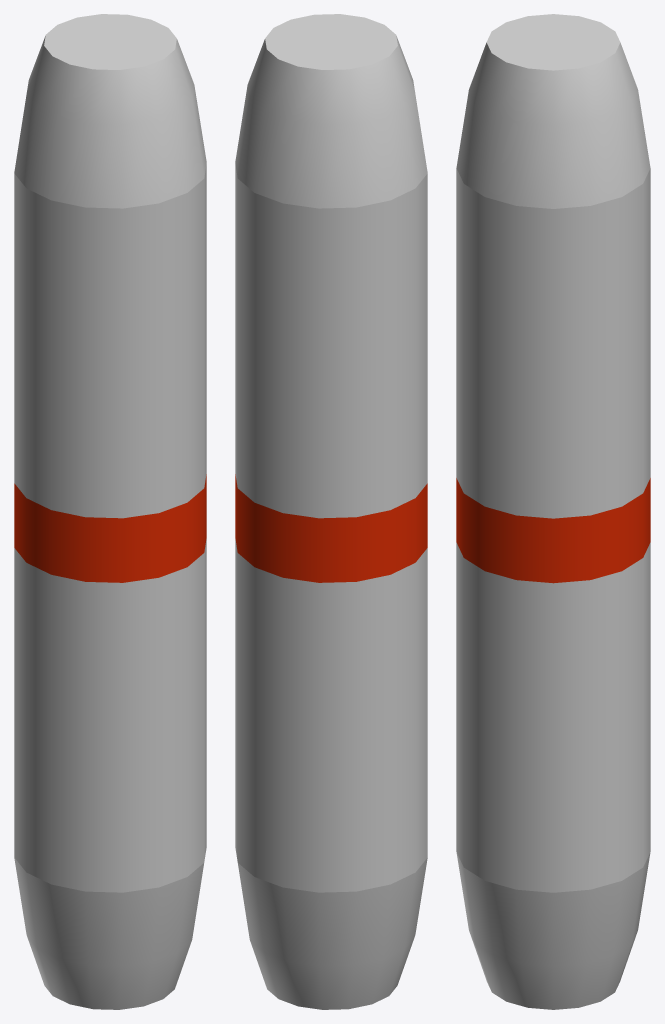
Rendered from candlepin.glb.
3 views of the same model, side by side, from view 1: azimuth 30°, elevation 25°; view 2: azimuth 150°, elevation 25°; view 3: azimuth 270°, elevation 25° (orthographic).
Visible parts, largest first — view 1: Candlepin; view 2: Candlepin; view 3: Candlepin.
Boxes of the visible parts, x1,y1,x2,y2 form: Candlepin: [14, 14, 206, 1009]; Candlepin: [235, 14, 427, 1009]; Candlepin: [456, 14, 650, 1009].
Size of the model in its own units: 0.0749 by 0.4002 by 0.0749.
